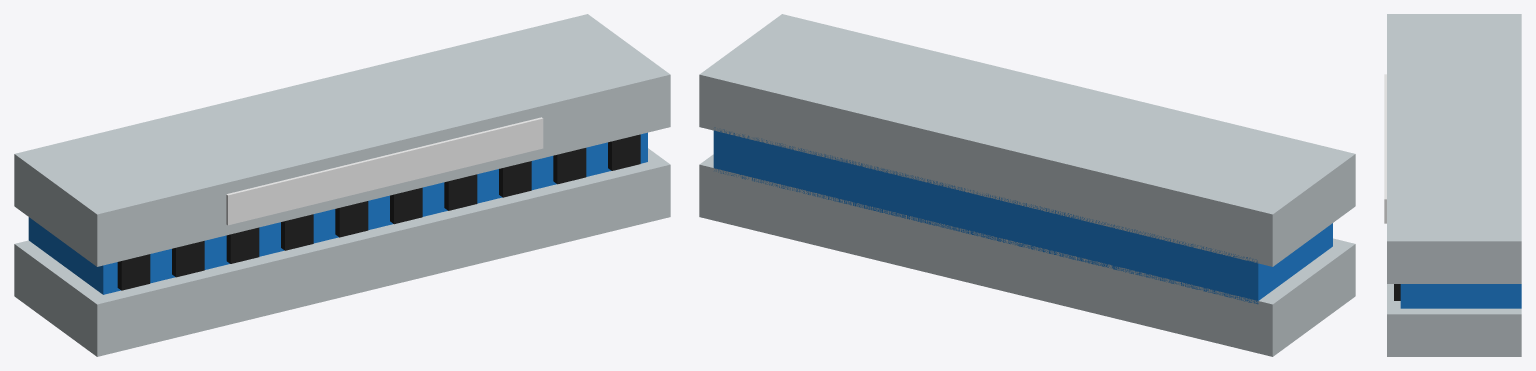
The model's file is munspel.glb.
3 views of the same model, side by side, from view 1: azimuth 30°, elevation 25°; view 2: azimuth 150°, elevation 25°; view 3: azimuth 270°, elevation 25° (orthographic). The views are drawn at different scales.
Parts seen in each view (by area): view 1: munspel; view 2: munspel; view 3: munspel.
Boxes of the visible parts, <box> form: munspel: <box>14,14,670,356</box>; munspel: <box>699,14,1355,356</box>; munspel: <box>1384,14,1521,356</box>.
Bounding box in the file's own units: 0.4 × 0.095 × 0.102.
